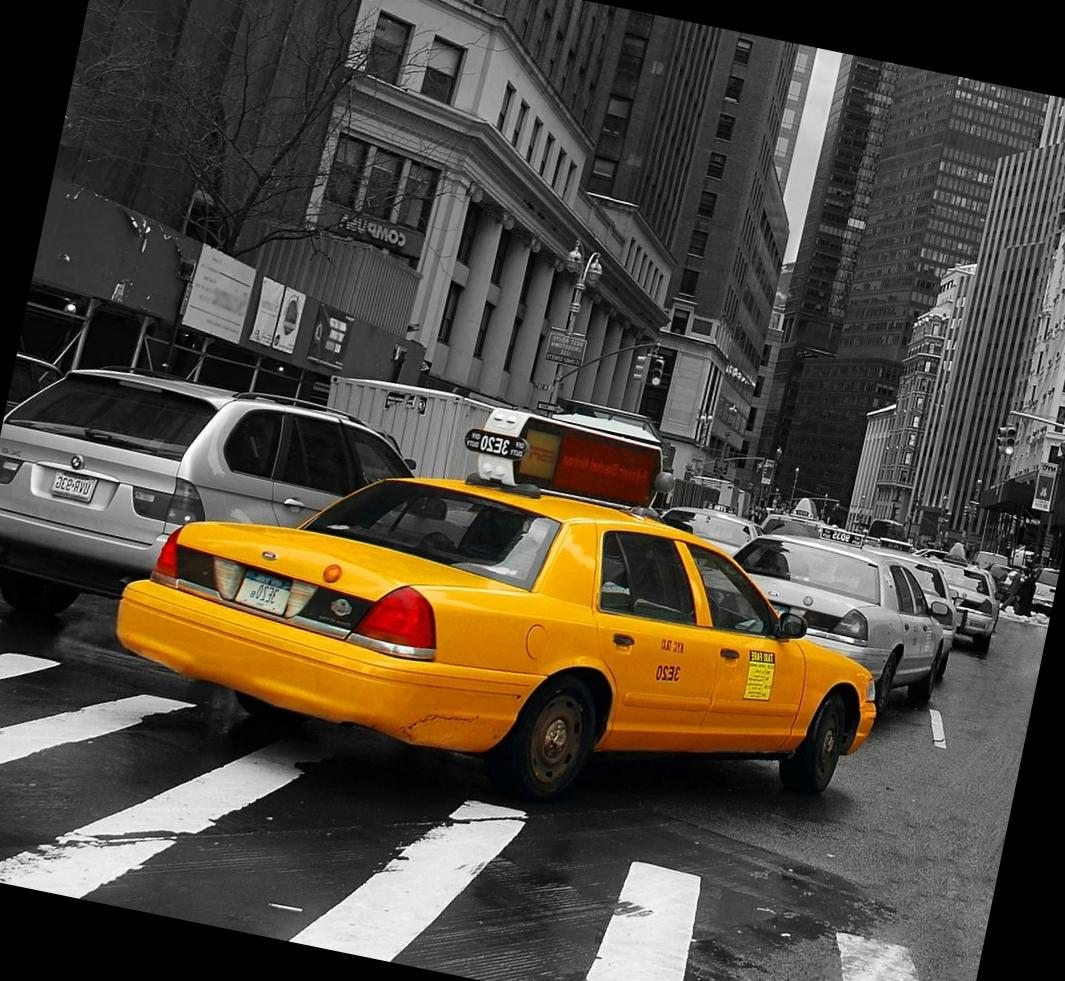taxi: (102, 478, 922, 760)
